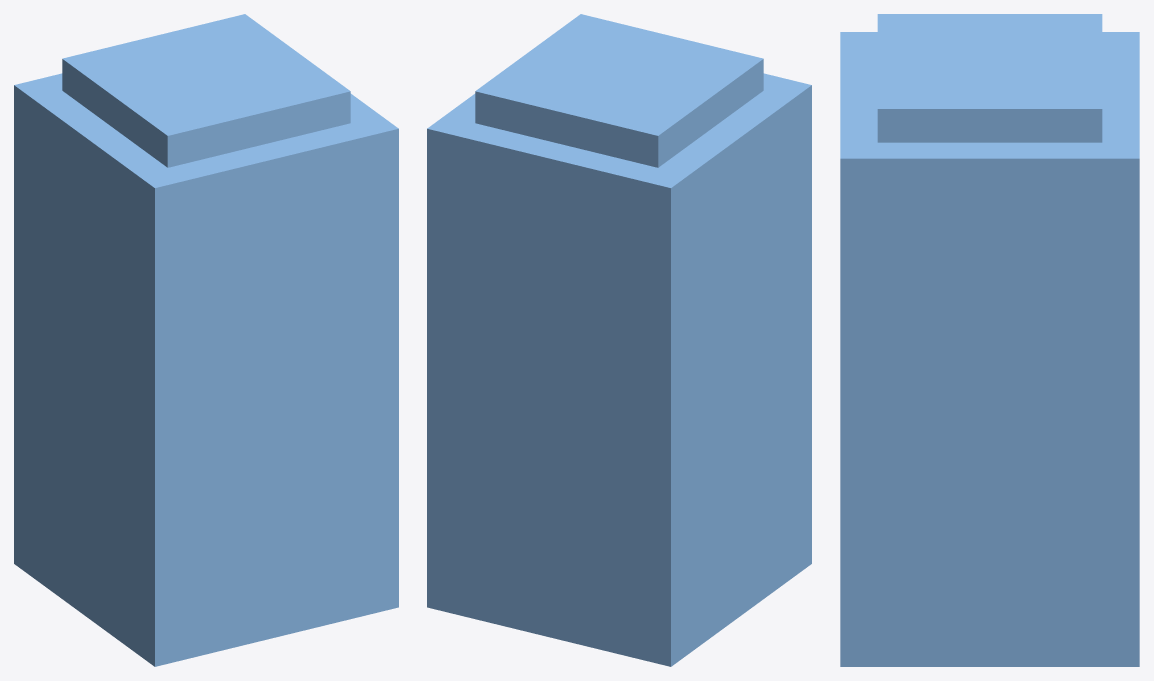
Rendered from tile.obj.
The picture shows the model from 3 angles, left to right: view 1: azimuth 30°, elevation 25°; view 2: azimuth 150°, elevation 25°; view 3: azimuth 270°, elevation 25°; orthographic projection. The views are drawn at different scales.
Size of the model in its own units: 8 by 16 by 8.
Materials: 1 (1 with a texture image).
